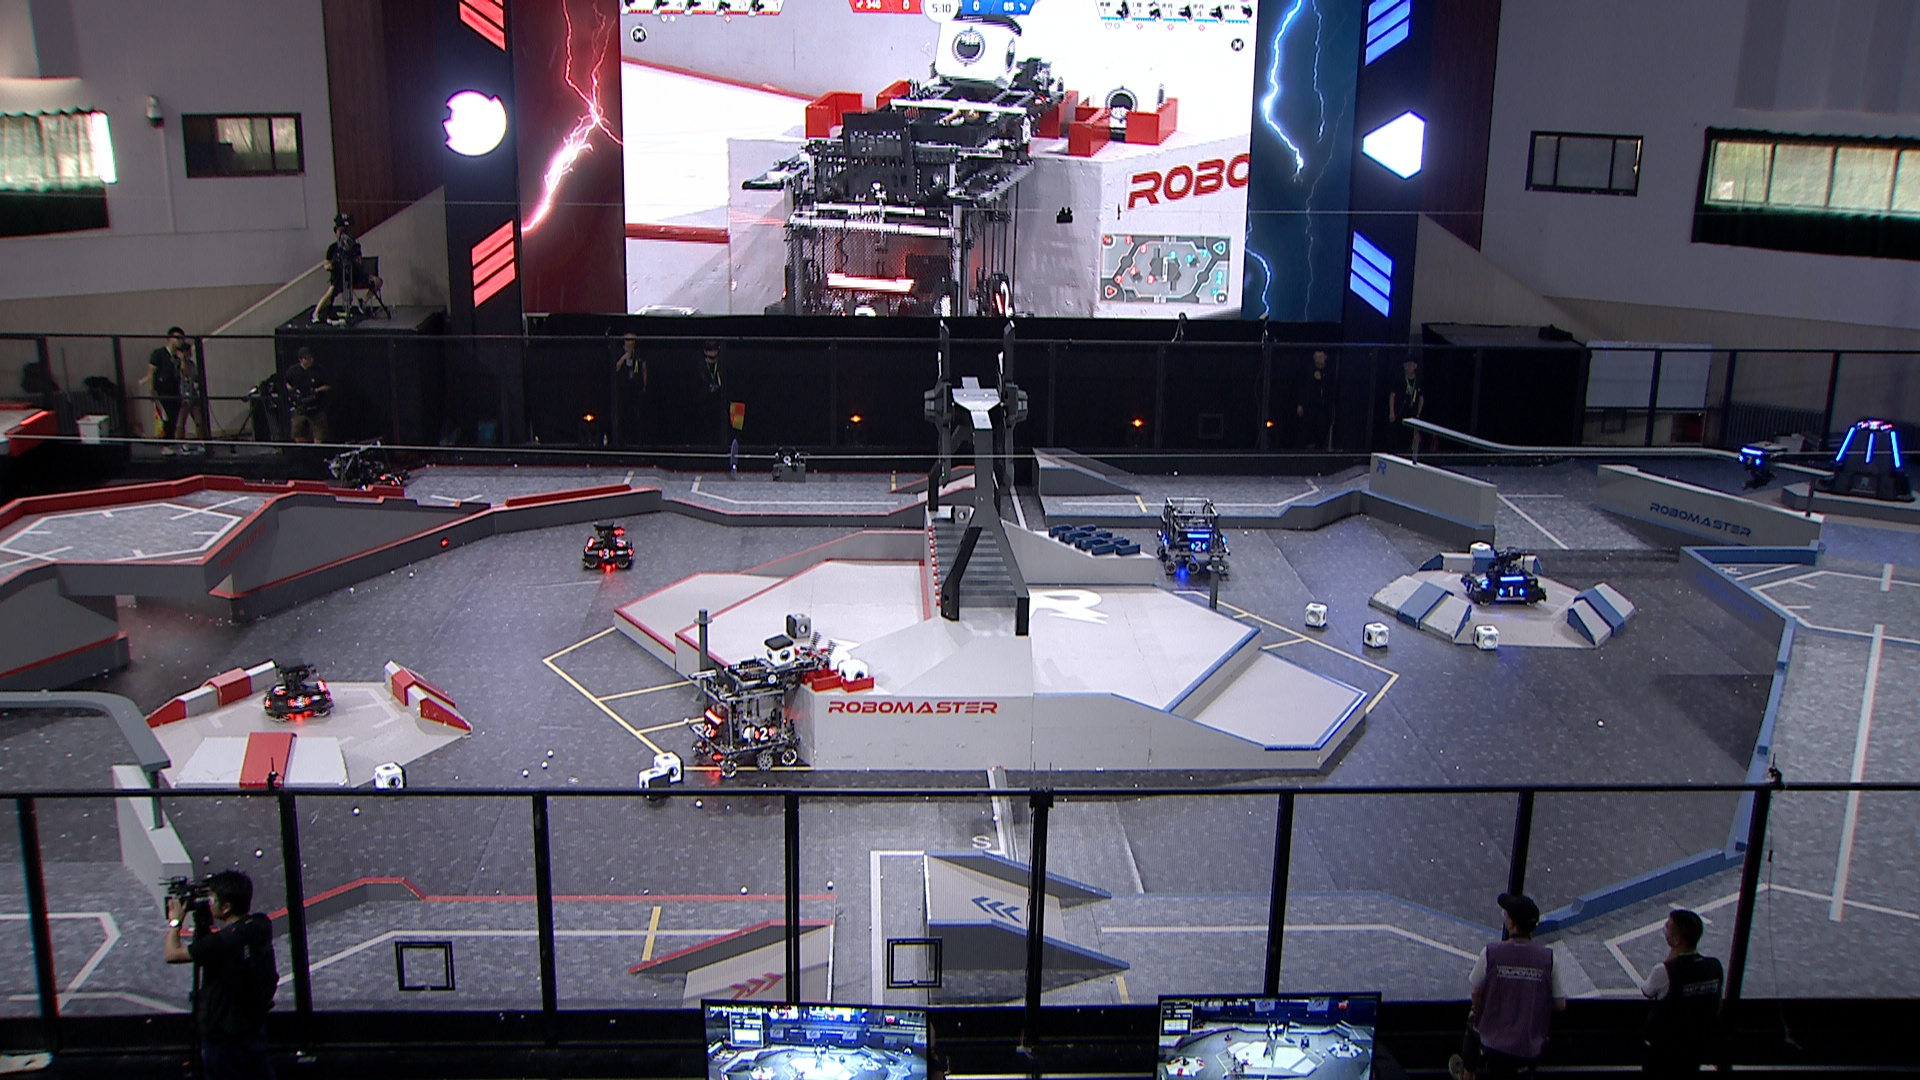armor: (1832, 425, 1855, 462), (1888, 429, 1902, 469), (1495, 584, 1524, 597), (286, 695, 313, 709), (752, 727, 775, 742), (1737, 454, 1762, 467), (1865, 433, 1874, 463), (700, 723, 717, 738), (595, 546, 615, 559), (1188, 541, 1209, 553), (272, 683, 286, 698), (1465, 580, 1476, 597), (378, 469, 392, 483), (392, 475, 406, 487), (615, 537, 626, 550), (261, 695, 272, 709), (353, 483, 371, 491)
base: (1812, 418, 1917, 504)
car: (680, 659, 803, 779), (1153, 498, 1233, 576), (1461, 543, 1548, 609), (258, 661, 338, 723), (328, 440, 409, 498), (580, 520, 636, 570)
ignore: (740, 83, 1034, 320), (1171, 135, 1204, 161), (1859, 419, 1888, 431)
watcher: (1735, 440, 1788, 491)
